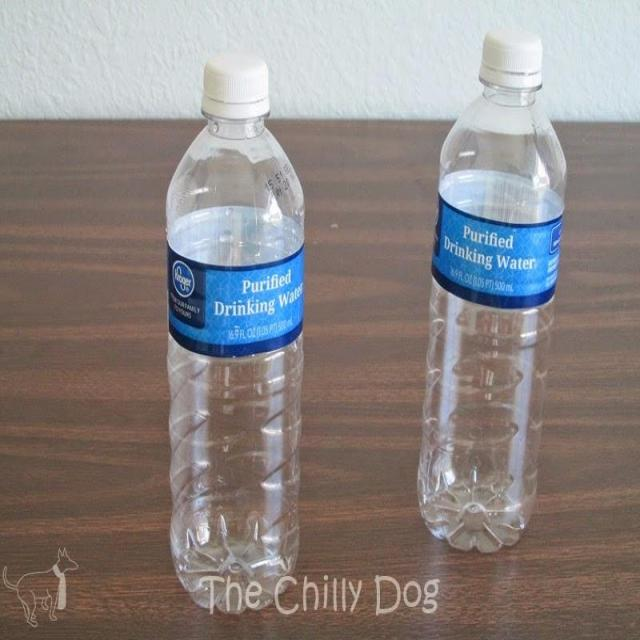plastic_bottle: (159, 56, 315, 606), (426, 37, 551, 556)
